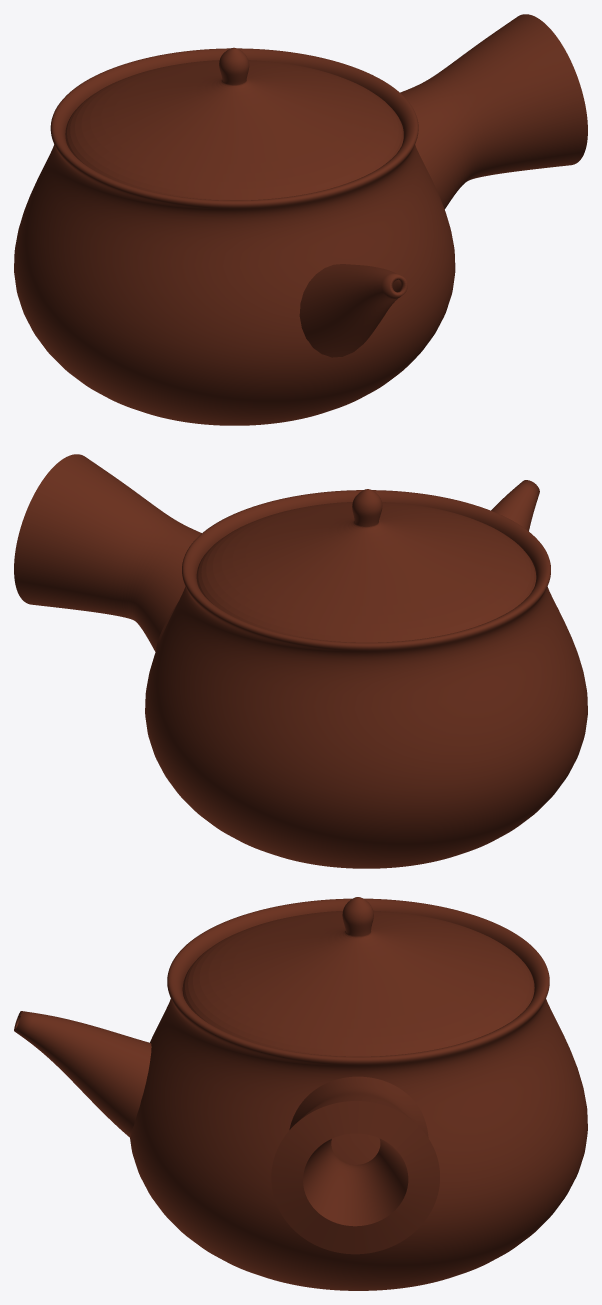
Rendered from kyuusu (1).fbx.
3 renders of one model, top to bottom at view 1: azimuth 30°, elevation 25°; view 2: azimuth 150°, elevation 25°; view 3: azimuth 270°, elevation 25°, orthographic. The views are drawn at different scales.
Parts seen in each view (by area): view 1: Vert.001, 円, 円.001, ベジエカーブ; view 2: Vert.001, 円, 円.001, ベジエカーブ; view 3: Vert.001, 円, 円.001, ベジエカーブ.
Boxes of the visible parts, <box> form: Vert.001: <box>14,48,455,425</box>; 円: <box>65,47,403,200</box>; 円.001: <box>400,14,587,209</box>; ベジエカーブ: <box>299,264,407,357</box>; Vert.001: <box>145,490,587,868</box>; 円: <box>196,489,536,642</box>; 円.001: <box>14,454,201,651</box>; ベジエカーブ: <box>491,480,539,531</box>; Vert.001: <box>130,898,587,1290</box>; 円: <box>182,897,534,1056</box>; 円.001: <box>271,1076,439,1254</box>; ベジエカーブ: <box>14,1011,151,1137</box>.
Bounding box in the file's own units: 714 × 452 × 667.
